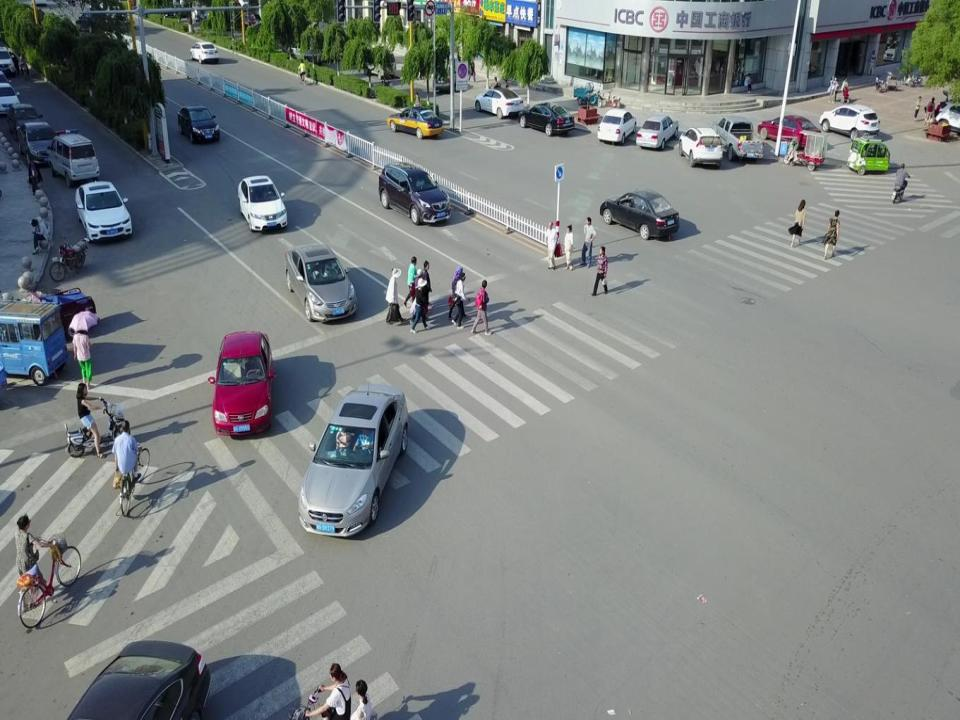car: (299, 385, 410, 543), (66, 643, 214, 720), (210, 332, 272, 436), (282, 246, 358, 322), (378, 161, 450, 225), (601, 192, 680, 240), (74, 181, 133, 241), (238, 175, 288, 234), (819, 105, 880, 142), (757, 115, 821, 149), (518, 101, 574, 137), (16, 122, 61, 166), (388, 106, 444, 140), (678, 126, 723, 168), (178, 104, 220, 145), (474, 86, 524, 118), (636, 114, 680, 148), (598, 108, 637, 145), (7, 105, 44, 142), (934, 100, 960, 134), (0, 83, 20, 115), (190, 42, 219, 64), (0, 47, 16, 77)
truck: (716, 115, 762, 163)
van: (0, 302, 65, 383), (50, 136, 98, 184), (362, 49, 396, 81)
